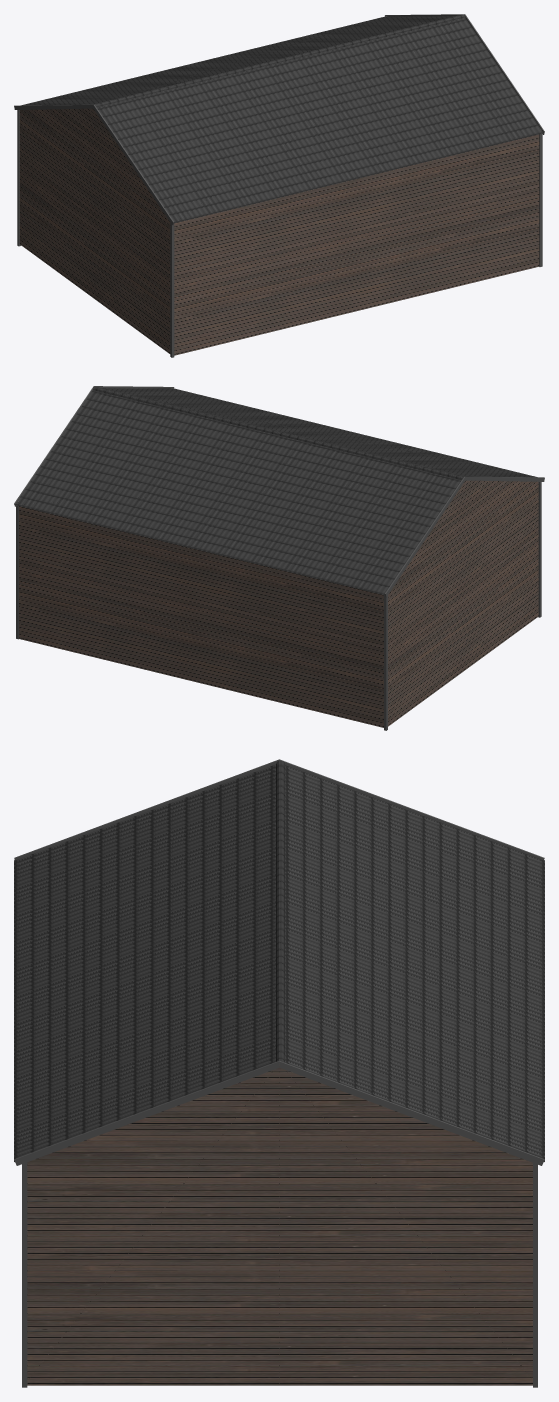
Rendered from house.gltf.
3 views of the same model, one above another, from view 1: azimuth 30°, elevation 25°; view 2: azimuth 150°, elevation 25°; view 3: azimuth 270°, elevation 25° (orthographic). The views are drawn at different scales.
Visible parts, largest first — view 1: pCube2, polySurface4, pasted__polySurface4, pCylinder1, polySurface6, polySurface10, polySurface1; view 2: pCube2, pasted__polySurface4, polySurface4, pCylinder1, polySurface6, polySurface2, polySurface3; view 3: pCube2, polySurface4, pasted__polySurface4, pCylinder1, polySurface9, polySurface8, polySurface10, polySurface7, polySurface1, polySurface3.
Part boxes in pixels (left/top/right/bottom): pCube2: left=19, top=108, right=539, bottom=355; polySurface4: left=97, top=18, right=544, bottom=223; pasted__polySurface4: left=21, top=16, right=453, bottom=105; pCylinder1: left=94, top=14, right=465, bottom=107; polySurface6: left=170, top=223, right=174, bottom=357; polySurface10: left=539, top=129, right=542, bottom=266; polySurface1: left=93, top=104, right=173, bottom=225; pCube2: left=19, top=480, right=538, bottom=727; pasted__polySurface4: left=14, top=390, right=461, bottom=595; polySurface4: left=101, top=388, right=537, bottom=477; pCylinder1: left=93, top=386, right=463, bottom=479; polySurface6: left=538, top=482, right=541, bottom=617; polySurface2: left=384, top=595, right=387, bottom=730; polySurface3: left=385, top=476, right=465, bottom=597; pCube2: left=27, top=1064, right=532, bottom=1385; polySurface4: left=14, top=764, right=275, bottom=1161; pasted__polySurface4: left=279, top=765, right=544, bottom=1161; pCylinder1: left=276, top=760, right=284, bottom=1062; polySurface9: left=14, top=1061, right=279, bottom=1165; polySurface8: left=279, top=1061, right=544, bottom=1165; polySurface10: left=22, top=1162, right=27, bottom=1387; polySurface7: left=533, top=1163, right=537, bottom=1387; polySurface1: left=14, top=759, right=279, bottom=860; polySurface3: left=279, top=759, right=544, bottom=860.
Bounding box in the file's own units: 10.82 × 5.5 × 8.04.
3 materials, 2 textured.
